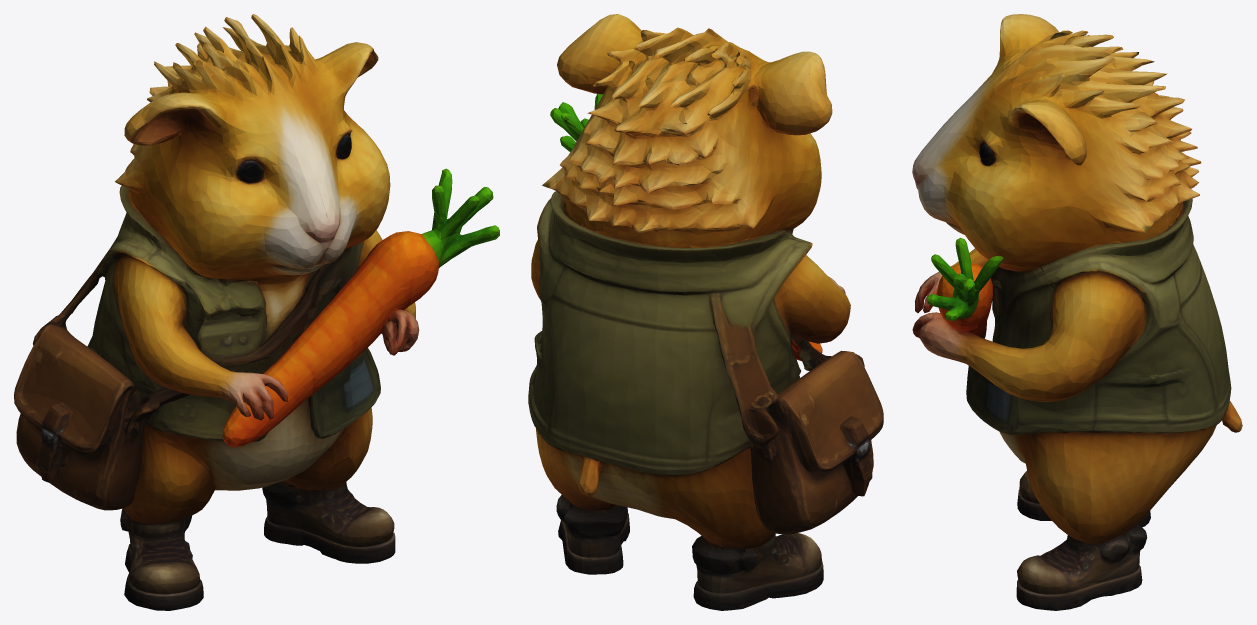
Rendered from Sammler.glb.
3 renders of one model, left to right at view 1: azimuth 30°, elevation 25°; view 2: azimuth 150°, elevation 25°; view 3: azimuth 270°, elevation 25°, orthographic. The views are drawn at different scales.
Parts seen in each view (by area): view 1: world; view 2: world; view 3: world.
Boxes of the visible parts, x1,y1,x2,y2 form: world: (14, 14, 499, 610); world: (528, 14, 883, 610); world: (912, 14, 1242, 610).
Size of the model in its own units: 0.7593 by 0.9999 by 0.5929.
1 material, 1 textured.
